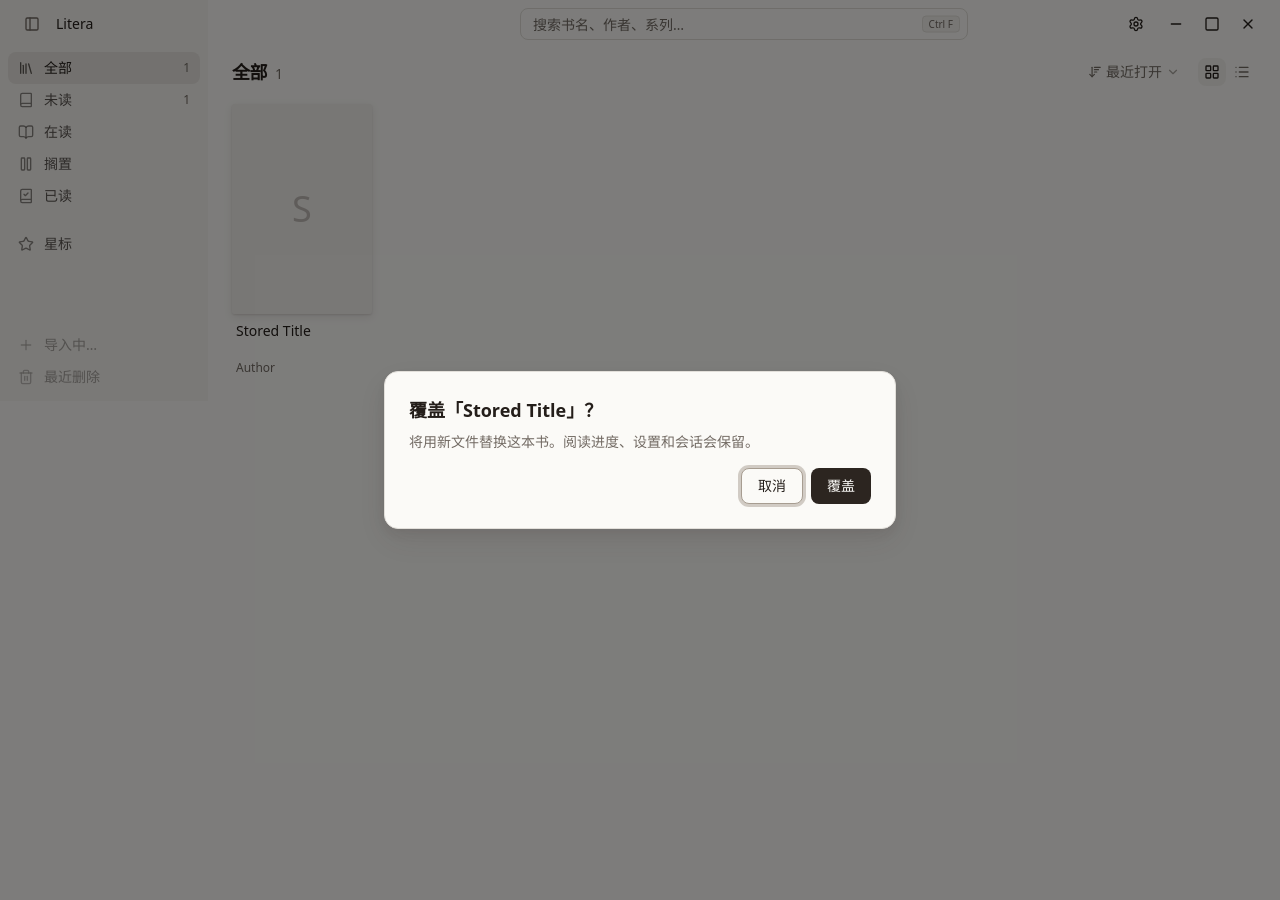
Scenario: LibraryView › imports dropped files one path at a time so later files see committed hashes
The image size is (1280, 900).
Expected: the text "Stored Title" is shown, [236,321,311,340]
Expected: the heading "覆盖「Stored Title」？" is shown, [409,398,602,422]
Click the button "覆盖".
click(841, 486)  # box [811,468,871,504]
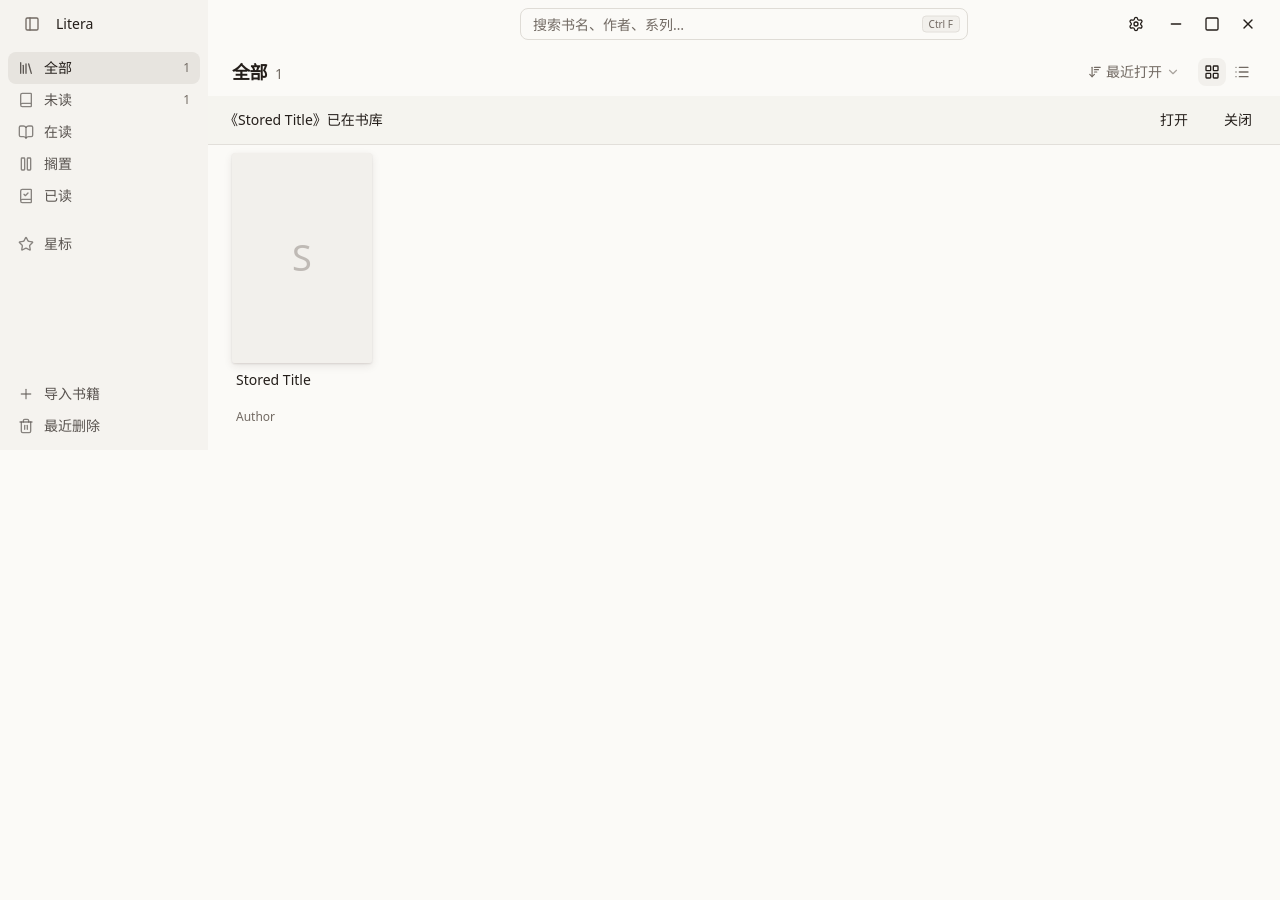
Expected: the text "《Stored Title》已在书库" is shown, [224,110,383,129]
